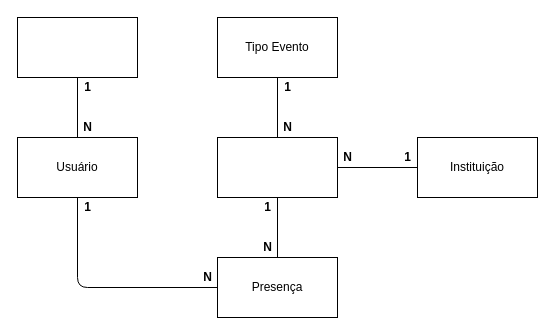
The diagram is 555 pixels wide and 335 high, and some of its shapes have lost their labels. Here are the shapes that lost their labels. From the top down, the centre of each, then its label:
At (x=77, y=47): "Tipo Usuário".
At (x=277, y=167): "Eventos".
